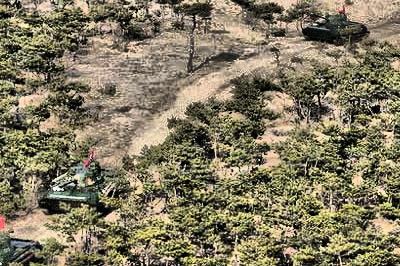tanks: (40, 154, 106, 214), (303, 15, 370, 45)
